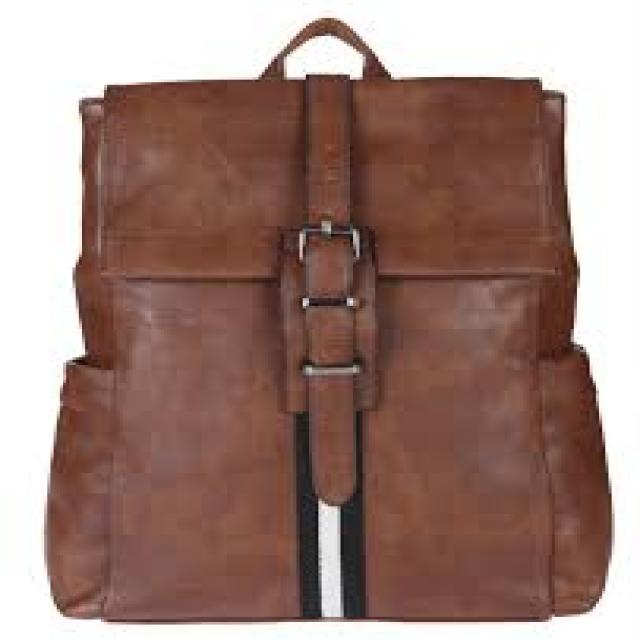backpack: (42, 16, 613, 623)
